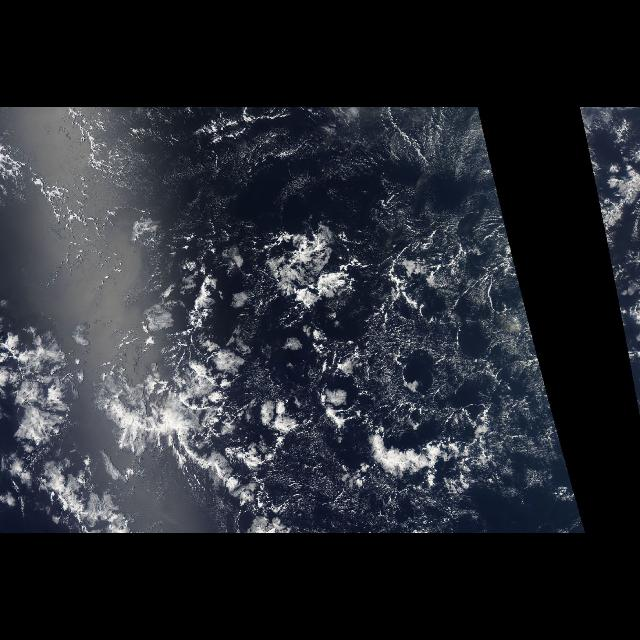Fish: (116, 334, 310, 534)
Gravel: (292, 232, 540, 476)
Sugar: (2, 108, 546, 430)
